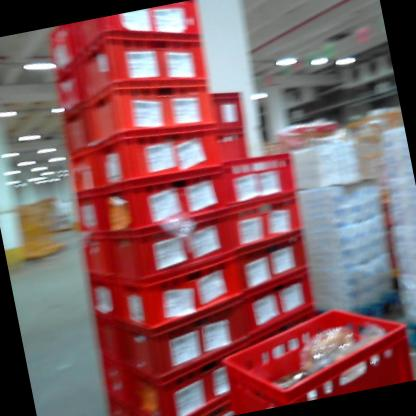pallet: (397, 311, 416, 359)
small_load_carrier: (213, 284, 416, 413), (116, 285, 257, 388), (109, 252, 251, 350), (90, 156, 235, 249), (74, 62, 220, 154), (98, 205, 241, 295), (71, 18, 209, 105), (87, 111, 221, 191), (121, 345, 258, 416), (69, 0, 206, 67), (233, 264, 320, 339), (232, 226, 315, 302), (210, 148, 300, 214), (225, 192, 309, 257), (84, 305, 131, 392), (52, 96, 97, 164), (99, 353, 140, 416), (73, 227, 115, 288), (69, 184, 110, 246), (208, 80, 255, 134), (76, 267, 119, 326), (39, 25, 79, 84), (49, 62, 86, 123), (65, 146, 101, 198), (209, 122, 254, 163), (98, 393, 137, 416)
